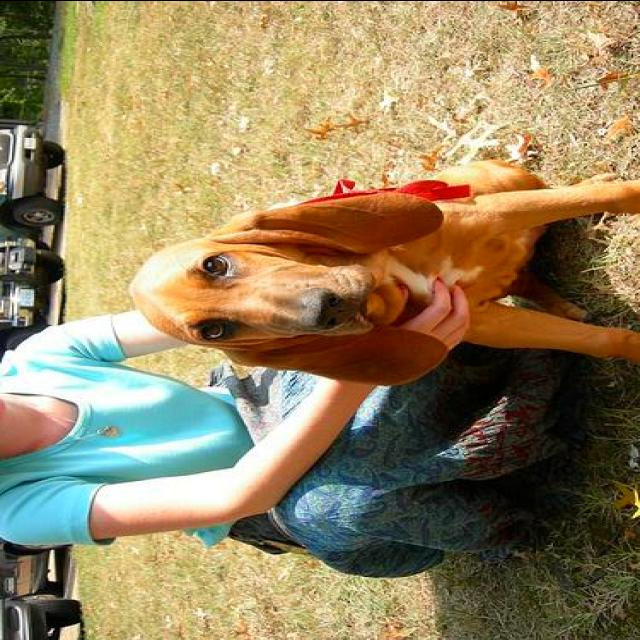bloodhound: (132, 159, 638, 385)
